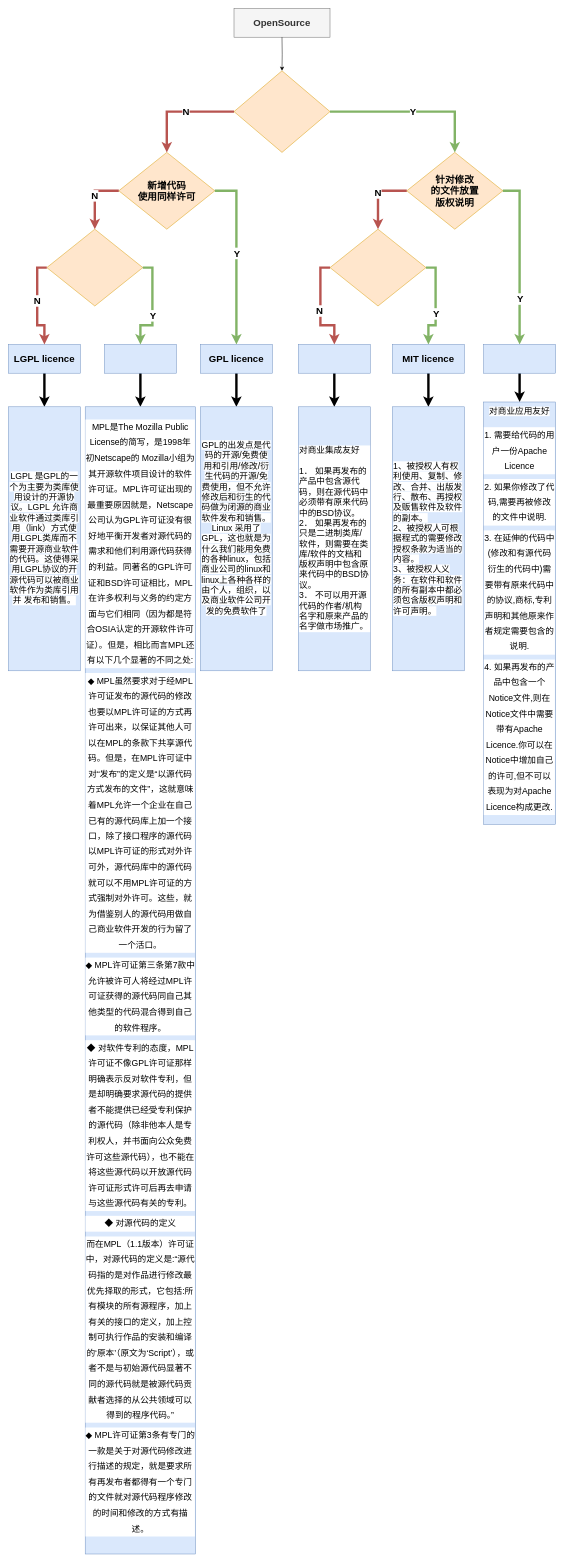
This 564x1562 diagram has some shape labels left out. The shapes that lost their labels are listed below. From the top down, each one's centre as x and y in pixels, then its label:
pixel 282 111: 闭源
pixel 94 267: 对修改处 提供说明 文档
pixel 378 267: 衍生软件 广告可以使用Customer 名字
pixel 140 358: Mozilla licence （MPL）
pixel 334 358: BSD licence
pixel 519 358: Apache licence
